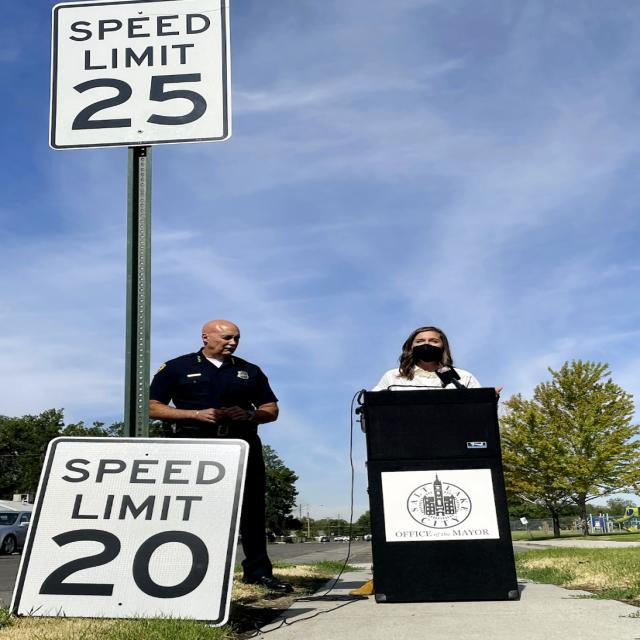speedLimit20: (26, 445, 237, 616)
